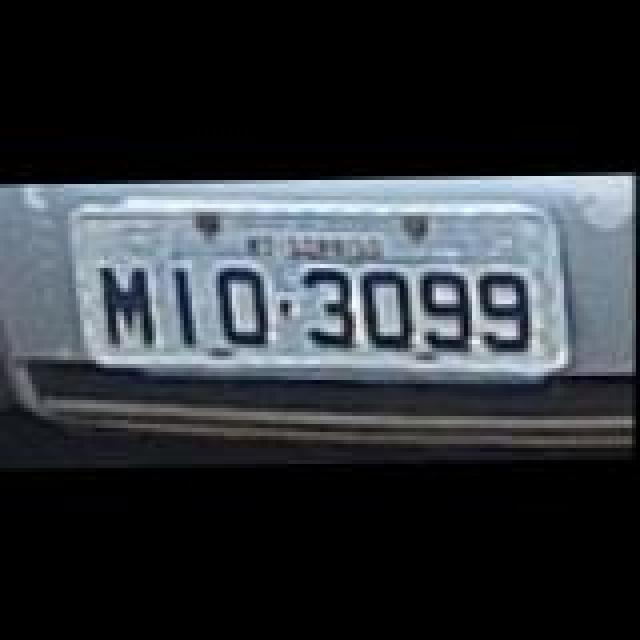1: (160, 260, 208, 344)
3: (296, 264, 368, 344)
9: (472, 266, 544, 350), (412, 264, 484, 348)
D: (356, 266, 428, 346)
M: (96, 262, 168, 346)
O: (208, 266, 280, 346)
